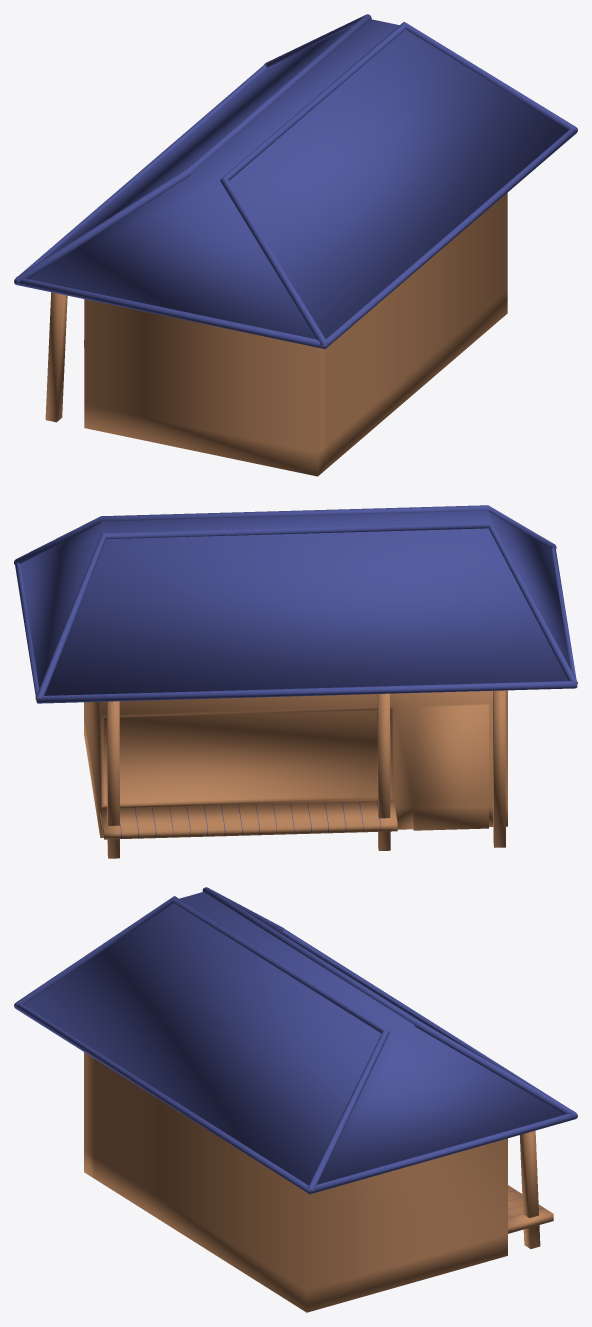
The model's file is 038_古民家2001.glb.
The picture shows the model from 3 angles, top to bottom: view 1: azimuth 30°, elevation 25°; view 2: azimuth 150°, elevation 25°; view 3: azimuth 270°, elevation 25°; orthographic projection. The views are drawn at different scales.
Visible parts, largest first — view 1: 立方体030_3, 立方体030, 立方体030_2; view 2: 立方体030_3, 立方体030_1, 立方体030, 立方体030_2, 立方体030_4; view 3: 立方体030_3, 立方体030, 立方体030_2.
Boxes of the visible parts, left/top/right/bottom form: 立方体030_3: left=14, top=14, right=577, bottom=348; 立方体030: left=84, top=193, right=507, bottom=476; 立方体030_2: left=45, top=292, right=67, bottom=422; 立方体030_3: left=14, top=505, right=577, bottom=703; 立方体030_1: left=103, top=704, right=488, bottom=830; 立方体030: left=35, top=682, right=577, bottom=839; 立方体030_2: left=107, top=690, right=505, bottom=858; 立方体030_4: left=120, top=801, right=380, bottom=838; 立方体030_3: left=14, top=887, right=577, bottom=1194; 立方体030: left=84, top=1052, right=553, bottom=1312; 立方体030_2: left=519, top=1130, right=540, bottom=1248.
Size of the model in its own units: 5.2 by 2.38 by 4.72.
